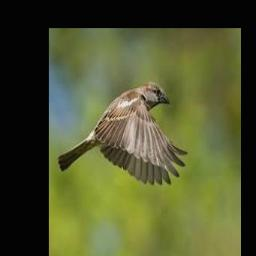Sparrow: (58, 82, 188, 184)
